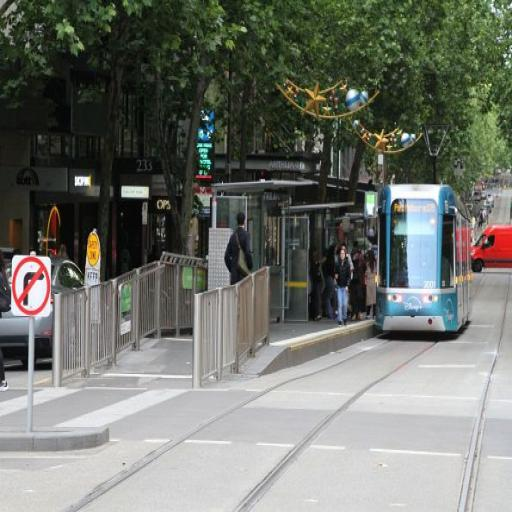clear_path: (274, 312, 373, 347)
handrail: (56, 258, 204, 385), (193, 266, 271, 385)
platform_edge: (274, 318, 374, 348)
ramp: (111, 339, 193, 378)
signage: (365, 193, 379, 285)
